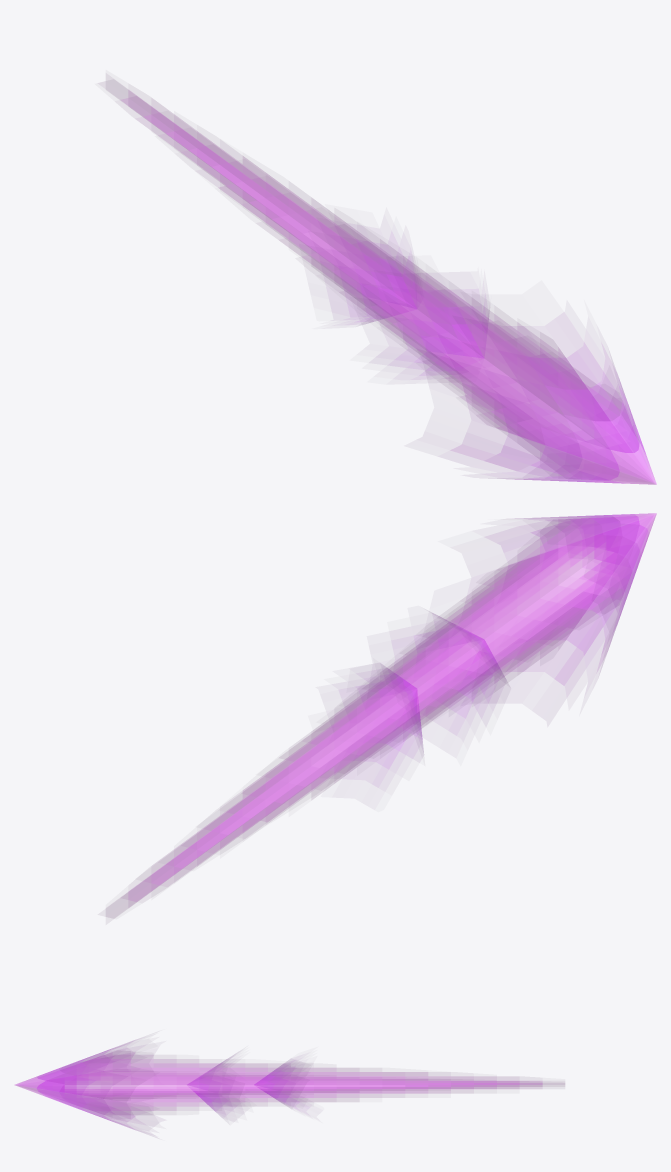
3 views of the same model, one above another, from view 1: azimuth 30°, elevation 25°; view 2: azimuth 150°, elevation 25°; view 3: azimuth 270°, elevation 25° (orthographic). The views are drawn at different scales.
Visible parts, largest first — view 1: layer_00_oe450L00; view 2: layer_00_oe450L00; view 3: layer_00_oe450L00.
Boxes of the visible parts, left/top/right/bottom form: layer_00_oe450L00: left=105, top=79, right=656, bottom=484; layer_00_oe450L00: left=106, top=513, right=656, bottom=918; layer_00_oe450L00: left=14, top=1039, right=564, bottom=1132.
Bounding box in the file's own units: 18.48 × 18.48 × 88.
Materials: 1 (1 with a texture image).
